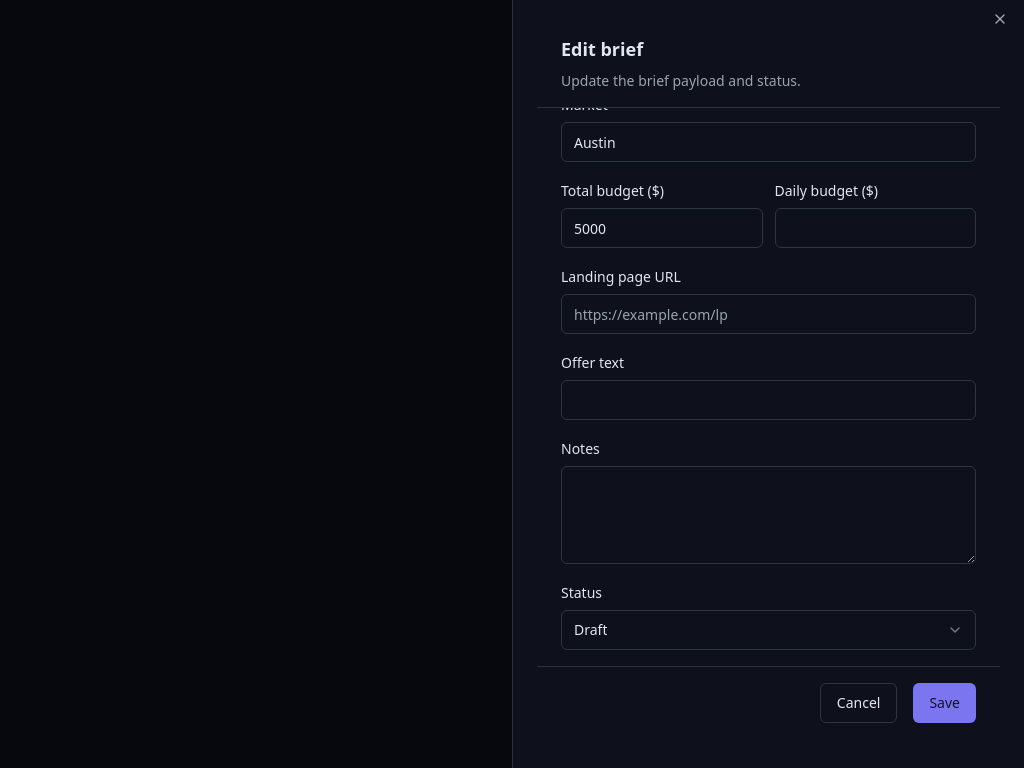
Test: BriefEditDrawer › only offers status transitions the state machine allows from draft
(page scrolled)
Click the dropdown at (591, 630), box left=561, top=610, right=976, bottom=650
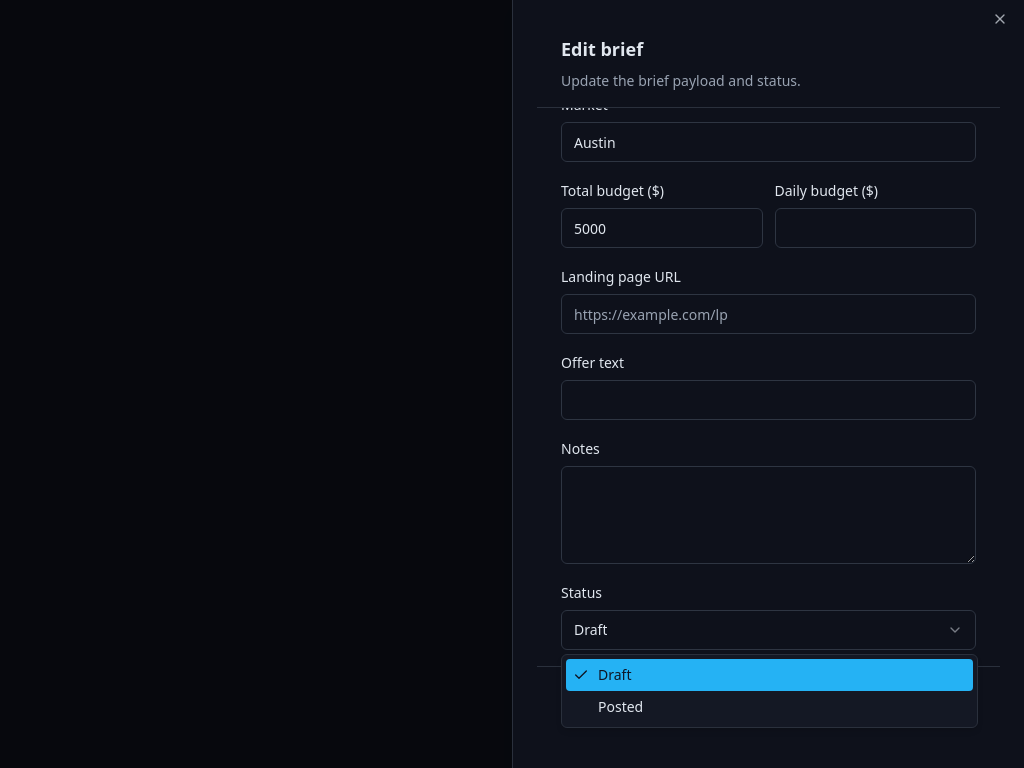
Result: the option "Draft" is shown at left=566, top=659, right=973, bottom=691
Result: the option "Posted" is shown at left=598, top=697, right=643, bottom=716
